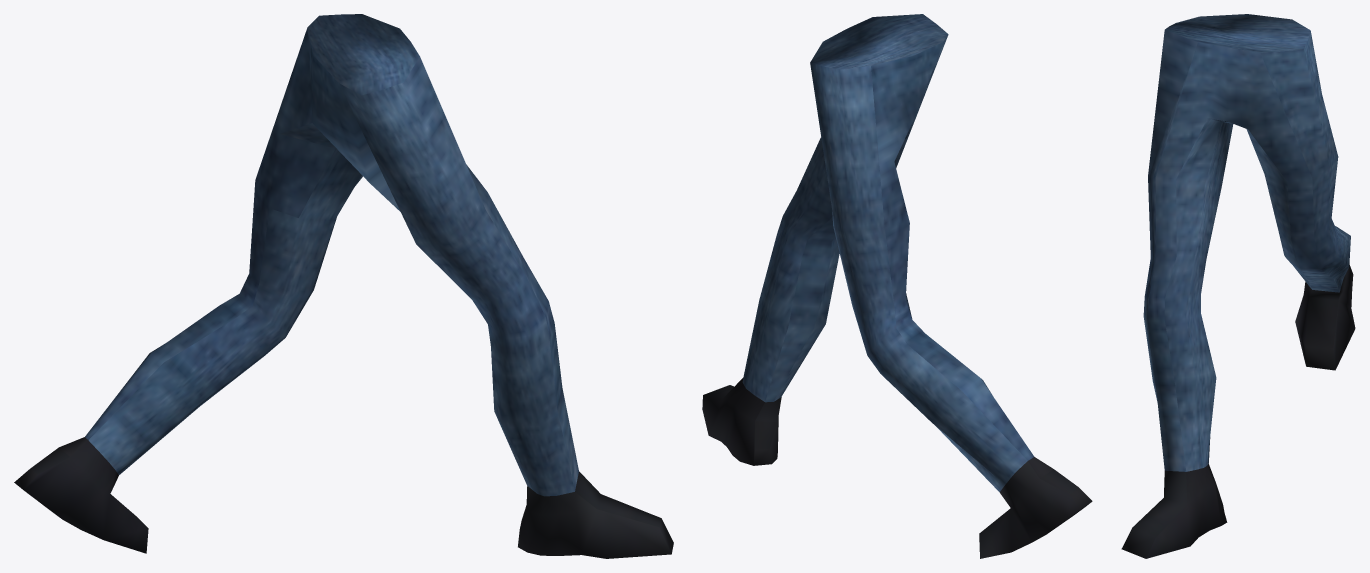
The model's file is PlayerLegs8.obj.
3 renders of one model, left to right at view 1: azimuth 30°, elevation 25°; view 2: azimuth 150°, elevation 25°; view 3: azimuth 270°, elevation 25°, orthographic. The views are drawn at different scales.
Parts seen in each view (by area): view 1: Legs; view 2: Legs; view 3: Legs.
Part boxes in pixels (x1=…): Legs: x1=14, y1=14, x2=673, y2=558; Legs: x1=702, y1=14, x2=1092, y2=558; Legs: x1=1121, y1=14, x2=1355, y2=558.
Size of the model in its own units: 4.89 by 4.49 by 2.21.
1 material, 1 textured.
